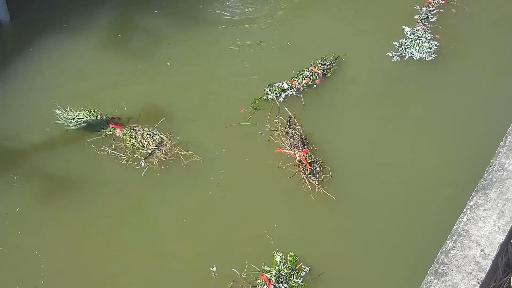twig: (41, 95, 217, 161), (268, 109, 347, 202), (246, 49, 358, 105), (387, 0, 483, 60), (200, 240, 314, 288)
